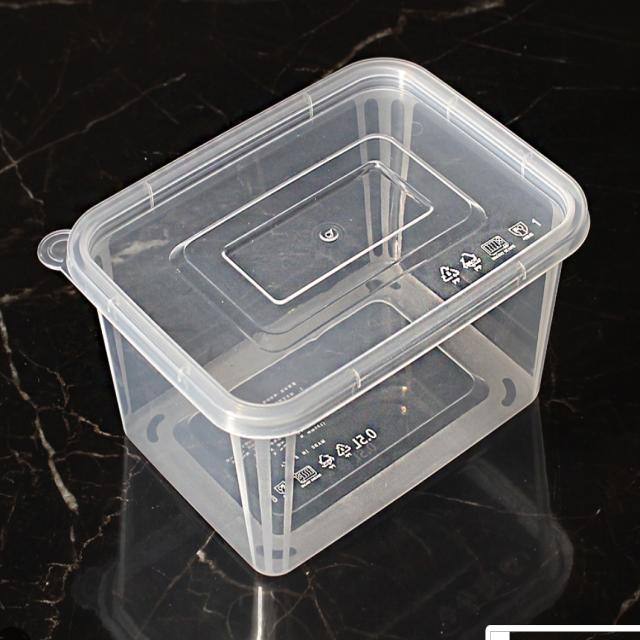recyclable: (28, 33, 610, 586)
